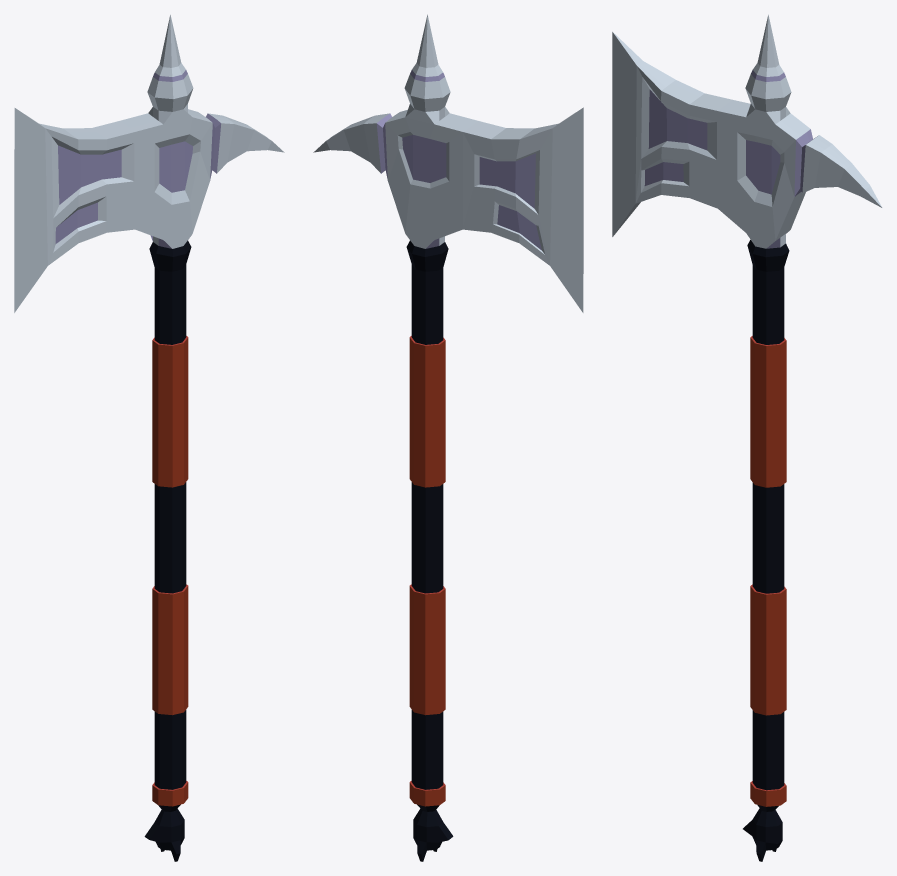
File: BaluMachado.fbx
3 renders of one model, left to right at view 1: azimuth 30°, elevation 25°; view 2: azimuth 150°, elevation 25°; view 3: azimuth 330°, elevation 25°, orthographic.
Visible parts, largest first — view 1: BaluMachado; view 2: BaluMachado; view 3: BaluMachado.
Boxes of the visible parts, bbox=[...] form: BaluMachado: bbox=[14, 14, 284, 861]; BaluMachado: bbox=[313, 14, 583, 861]; BaluMachado: bbox=[612, 14, 882, 861].
Bounding box in the file's own units: 0.5372 × 1.6 × 0.0691.
